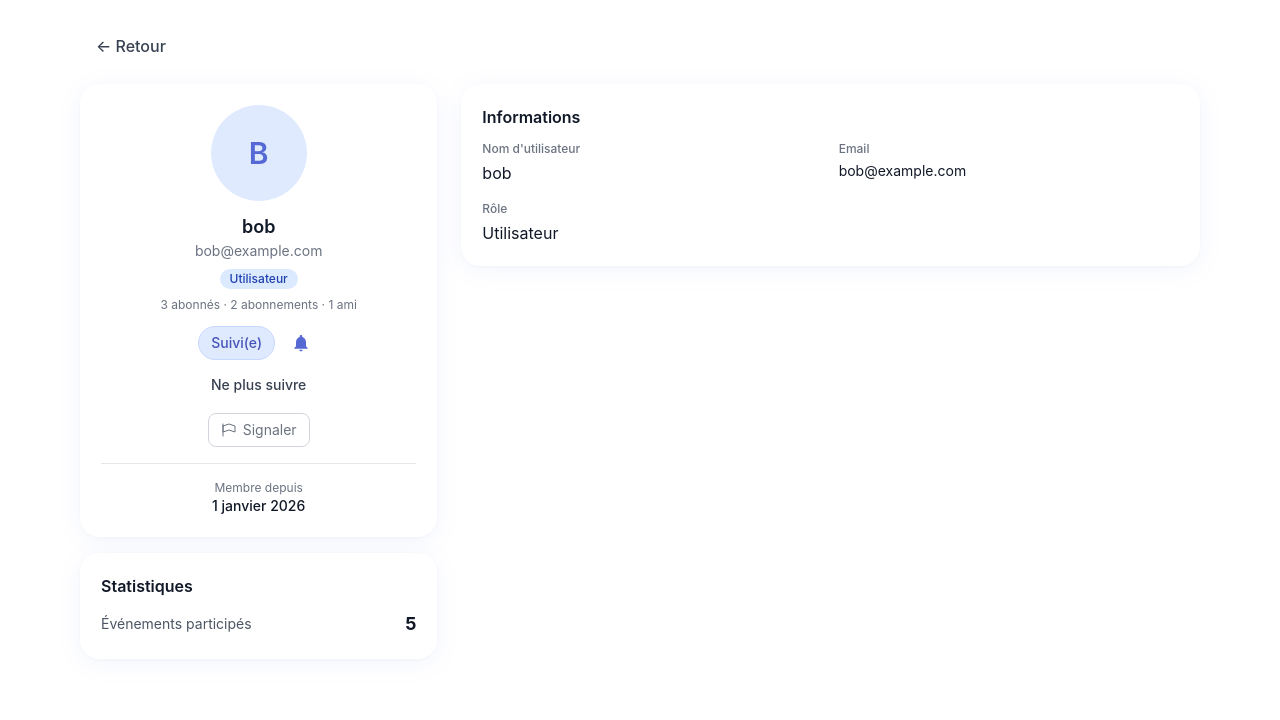
Test: ProfileViewMode - following someone else › shows the non-friend confirmation message when unfollowing a non-friend
Click the button "Ne plus suivre".
click(259, 385)  # box [198,369,319,401]
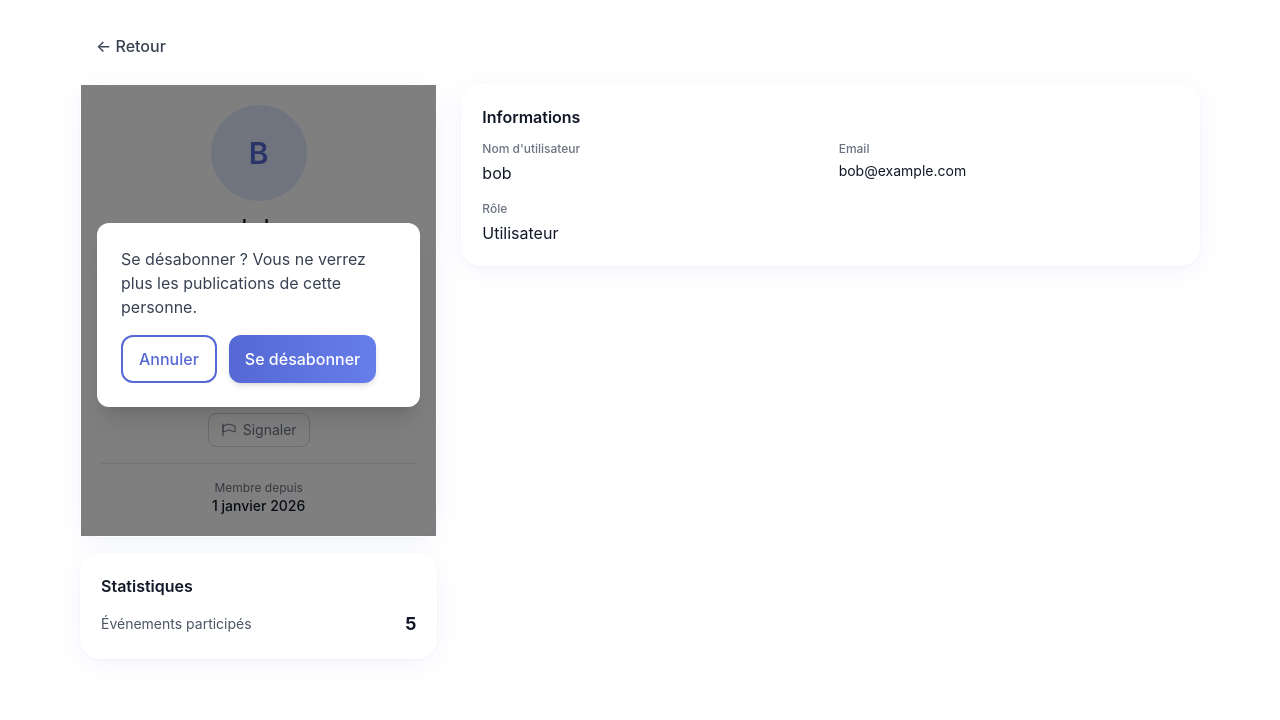
Expected: the text "Se désabonner ? Vous ne verrez plus les publications de cette personne." is shown, [121,246,396,318]
